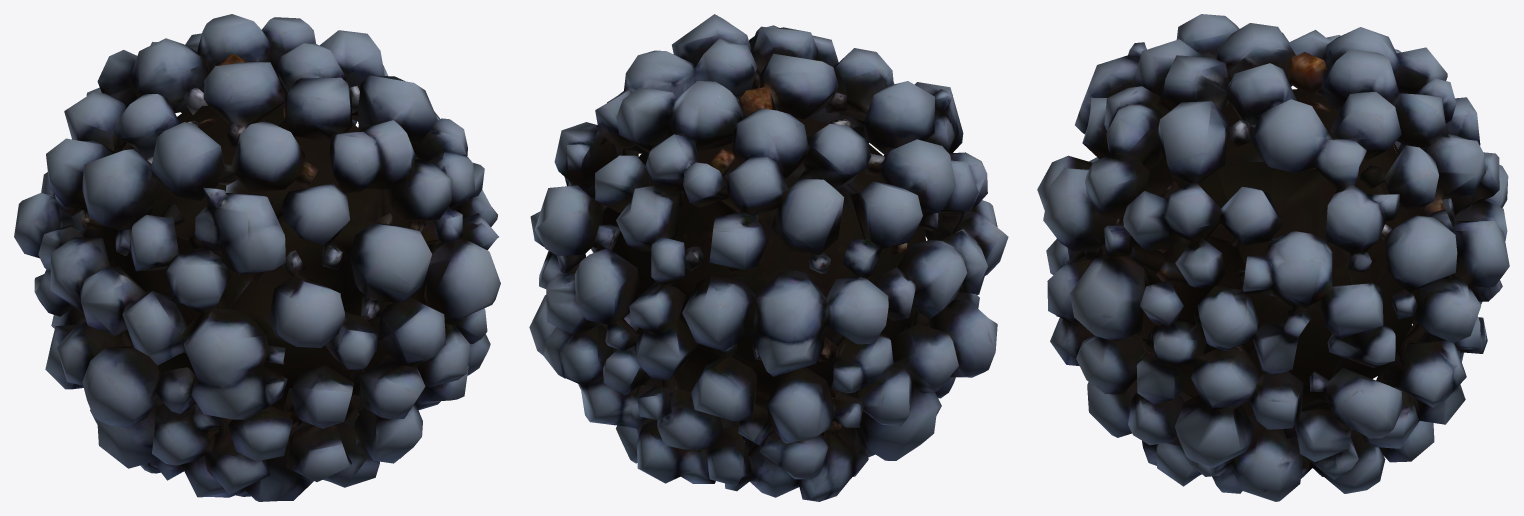
The model's file is f-blackberry.glb.
3 renders of one model, left to right at view 1: azimuth 30°, elevation 25°; view 2: azimuth 150°, elevation 25°; view 3: azimuth 270°, elevation 25°, orthographic. The views are drawn at different scales.
Visible parts, largest first — view 1: node_0; view 2: node_0; view 3: node_0.
Boxes of the visible parts, x1,y1,x2,y2 form: node_0: (14, 14, 500, 501); node_0: (529, 14, 1008, 501); node_0: (1037, 14, 1509, 501).
Size of the model in its own units: 1.07 by 1.07 by 1.05.
Materials: 1 (1 with a texture image).
